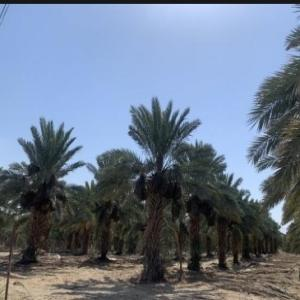palm tree: (246, 1, 299, 297), (6, 116, 85, 263)
